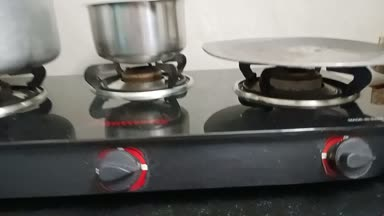flame_gas_off: (253, 65, 382, 190), (86, 58, 176, 201)
